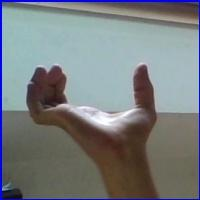B: (15, 55, 170, 170)
